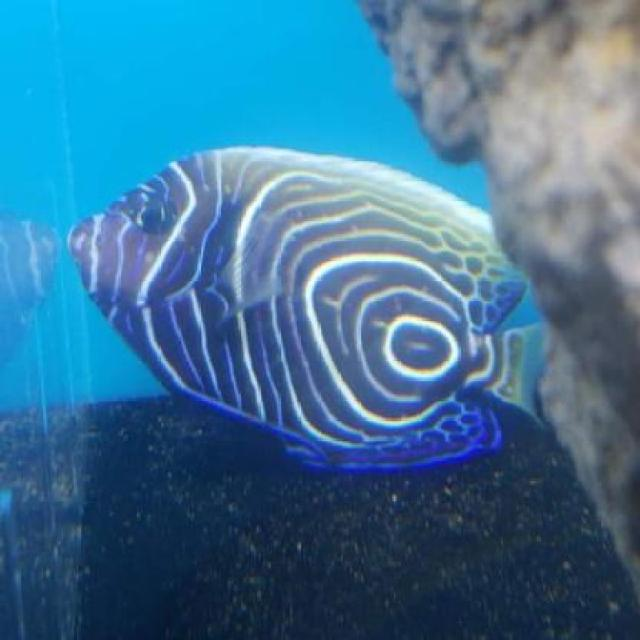AngelFish: (68, 146, 527, 472)
